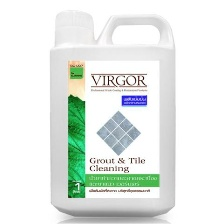cleaning_solution: (46, 6, 181, 219)
